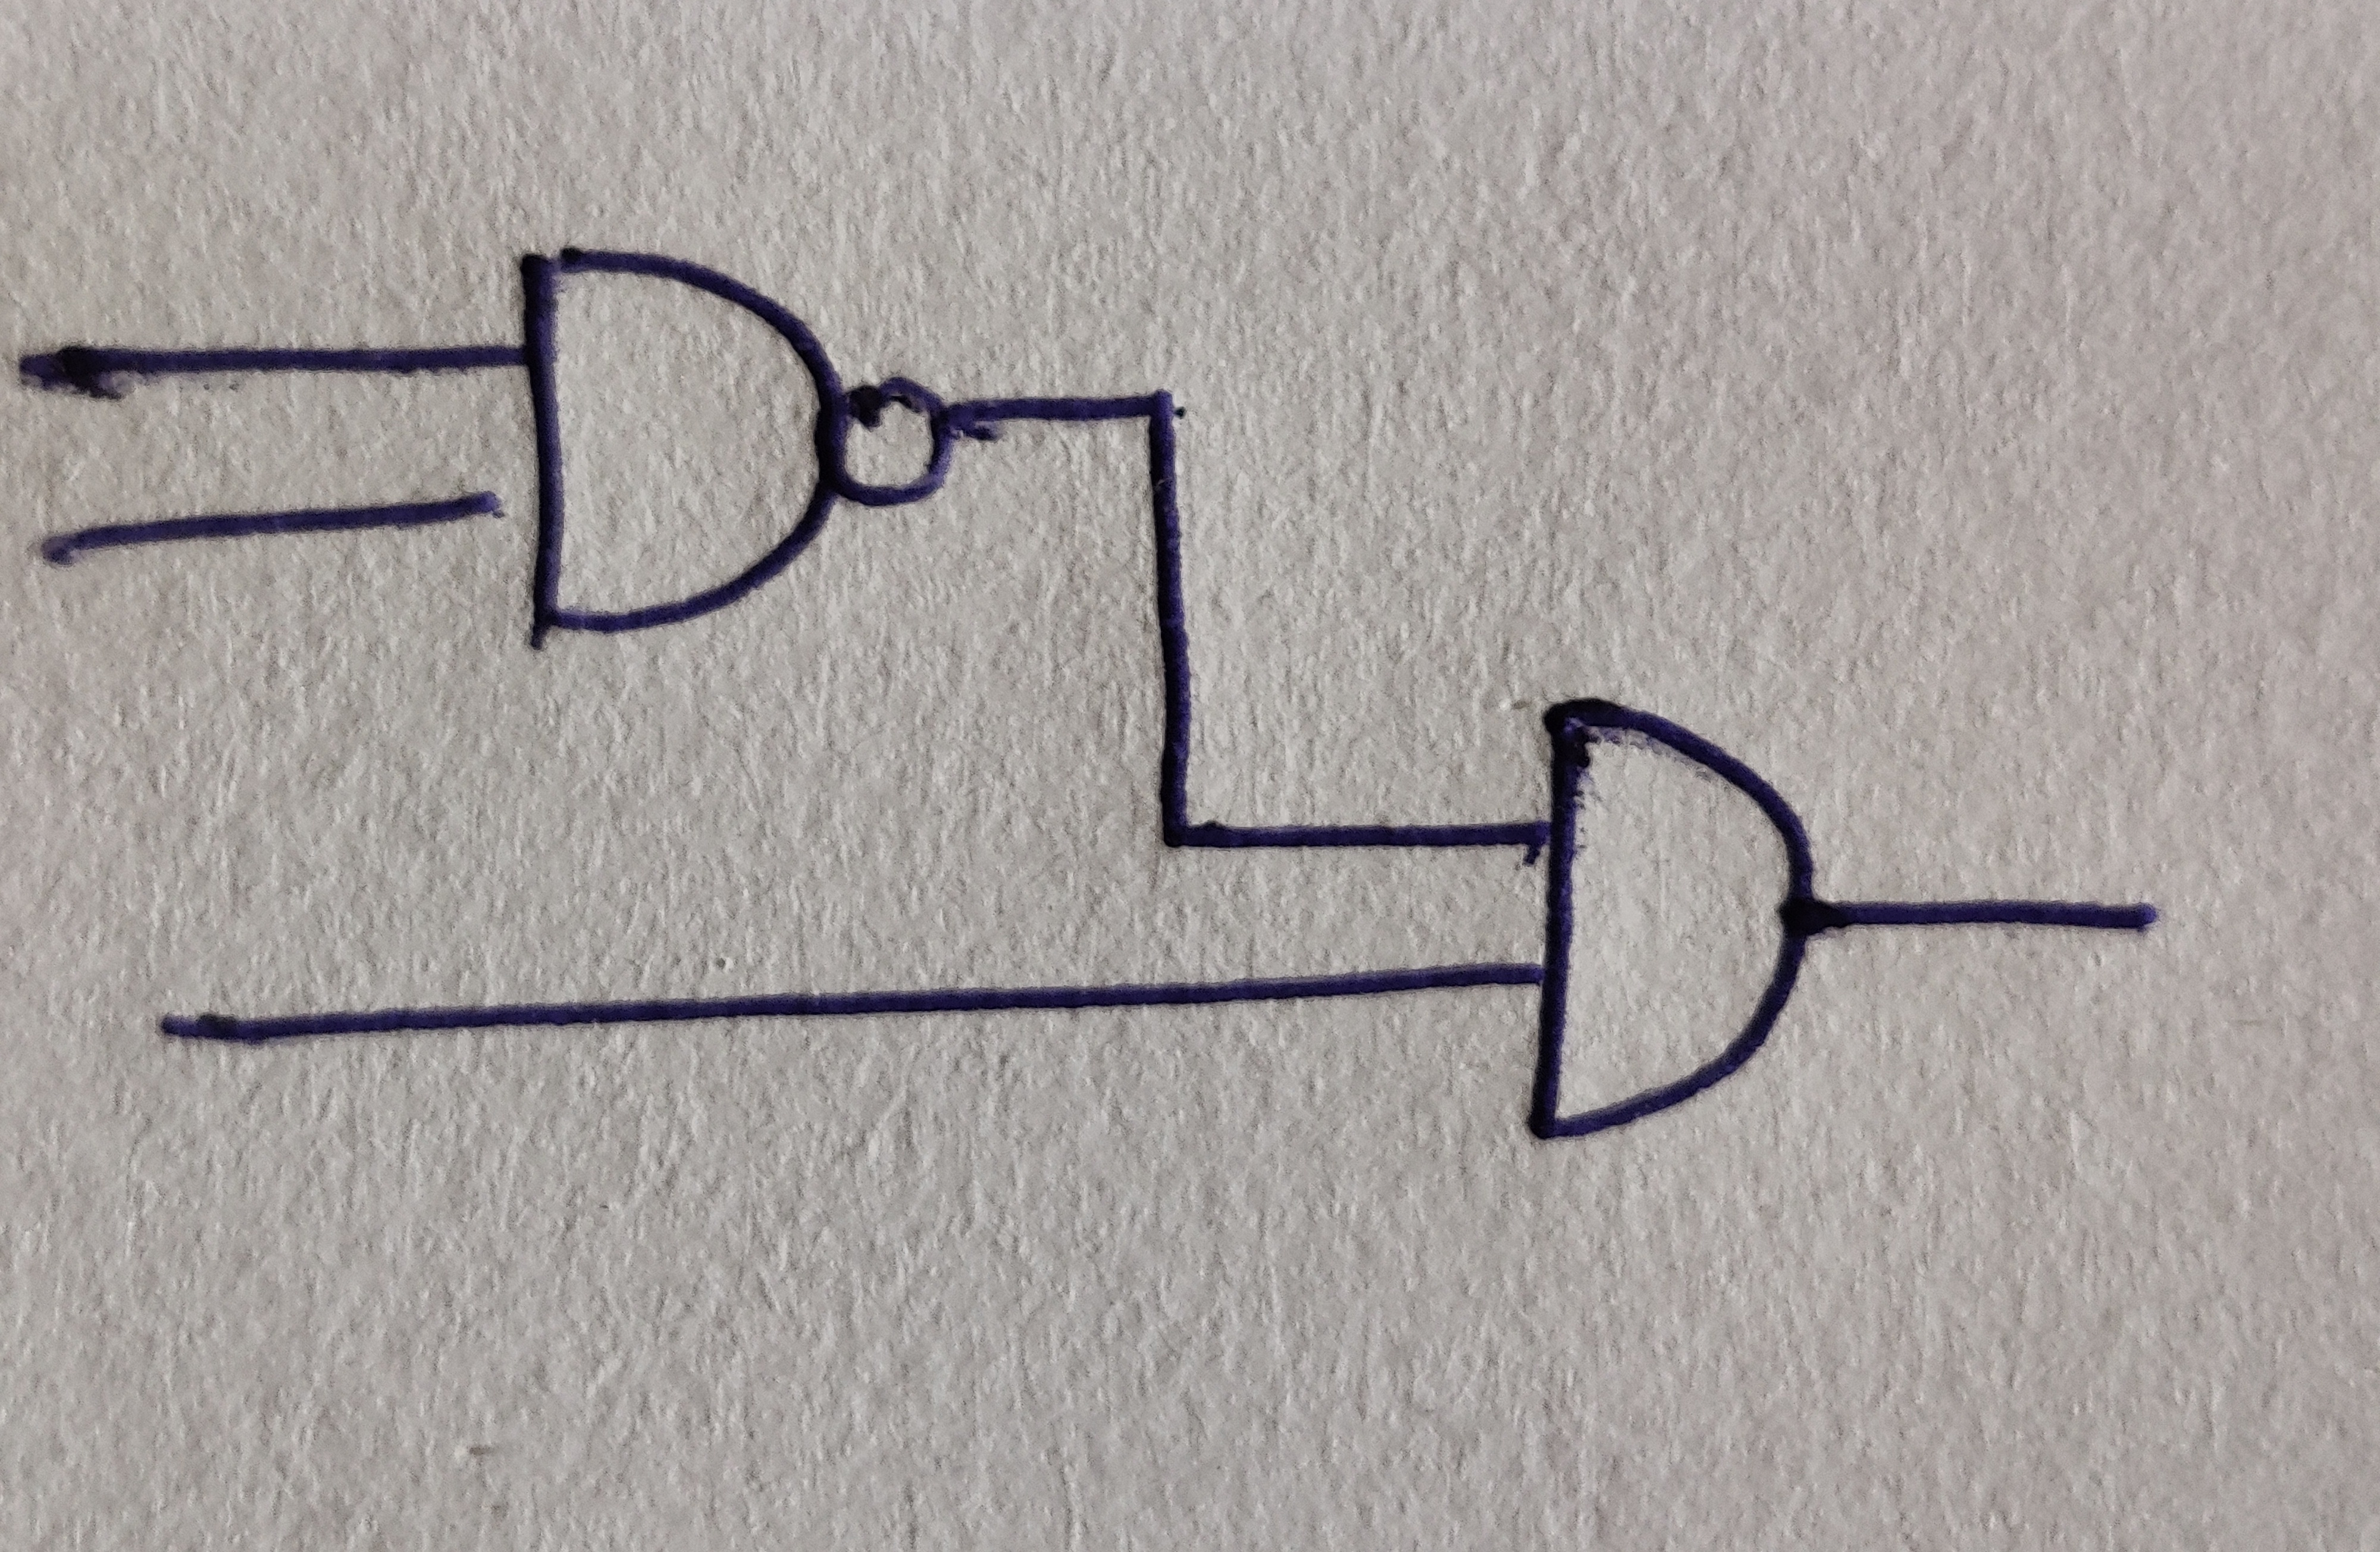and: (520, 248, 847, 647), (1527, 701, 1814, 1141)
not: (826, 378, 958, 506)
